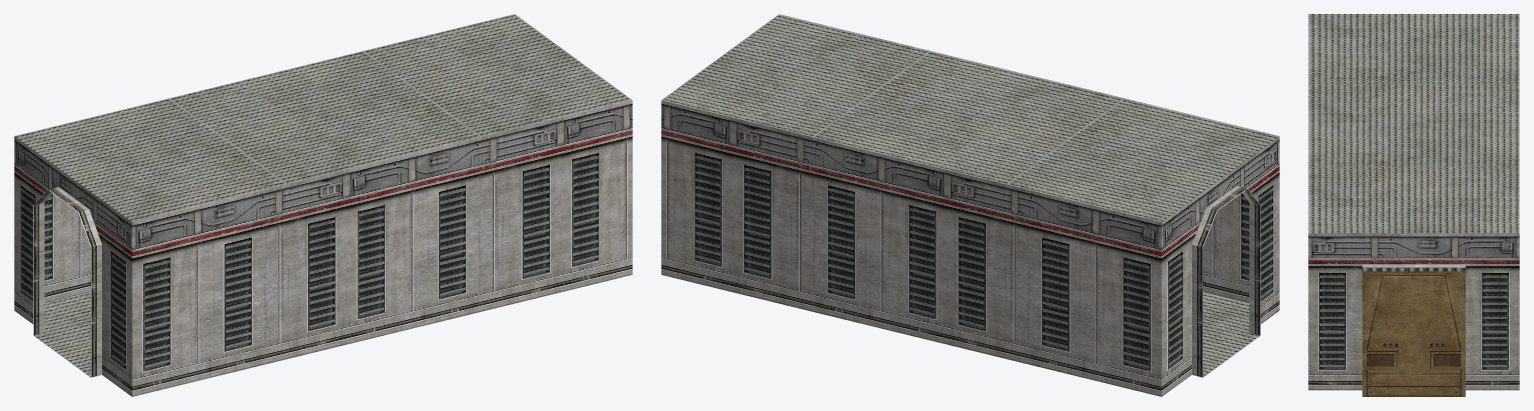
File: mun_all_landing_pad_s01_r1_mesh.fbx
The picture shows the model from 3 angles, left to right: view 1: azimuth 30°, elevation 25°; view 2: azimuth 150°, elevation 25°; view 3: azimuth 270°, elevation 25°; orthographic projection. The views are drawn at different scales.
Parts seen in each view (by area): view 1: mesh_node; view 2: mesh_node; view 3: mesh_node.
Boxes of the visible parts, <box> form: mesh_node: <box>14,14,632,396</box>; mesh_node: <box>661,14,1279,396</box>; mesh_node: <box>1308,14,1519,396</box>.
Size of the model in its own units: 10.58 by 3.35 by 4.1.
